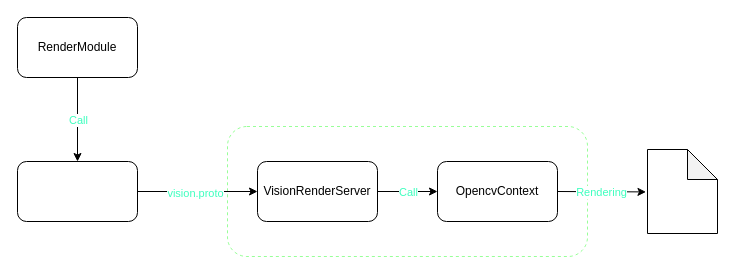
This 735x274 diagram has some shape labels left out. The shapes that lost their labels are listed below. From the top down, each one's box as (x1, y1, x2, y2) in pixels, then its label:
(16, 160, 138, 222): RPCContext
(646, 148, 718, 234): image
